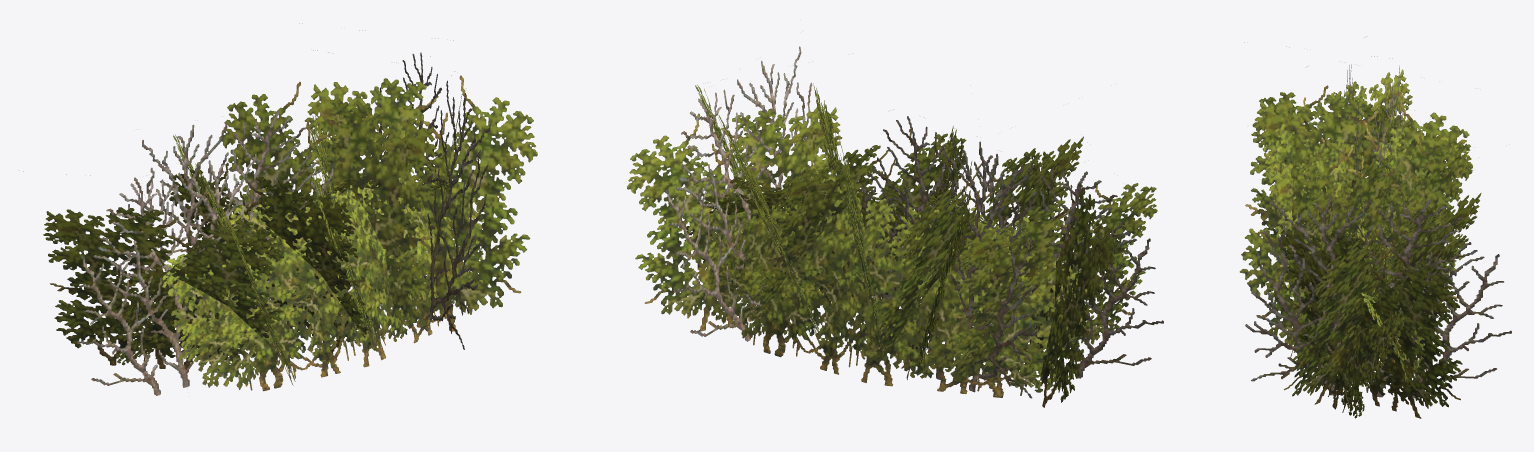
Rendered from OZ_02_hd_grass03A.glb.
3 views of the same model, side by side, from view 1: azimuth 30°, elevation 25°; view 2: azimuth 150°, elevation 25°; view 3: azimuth 270°, elevation 25° (orthographic). The views are drawn at different scales.
Parts seen in each view (by area): view 1: OM_02_hd_grass03A; view 2: OM_02_hd_grass03A; view 3: OM_02_hd_grass03A.
Boxes of the visible parts, <box> form: OM_02_hd_grass03A: <box>23,23,537,395</box>; OM_02_hd_grass03A: <box>627,46,1163,407</box>; OM_02_hd_grass03A: <box>1239,36,1511,418</box>.
Size of the model in its own units: 5.42 by 2.74 by 2.94.
Materials: 1 (1 with a texture image).
